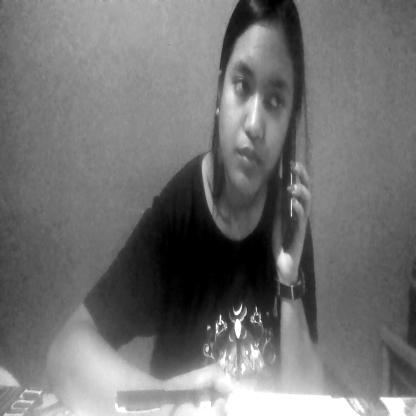Normal: (206, 3, 297, 211)
